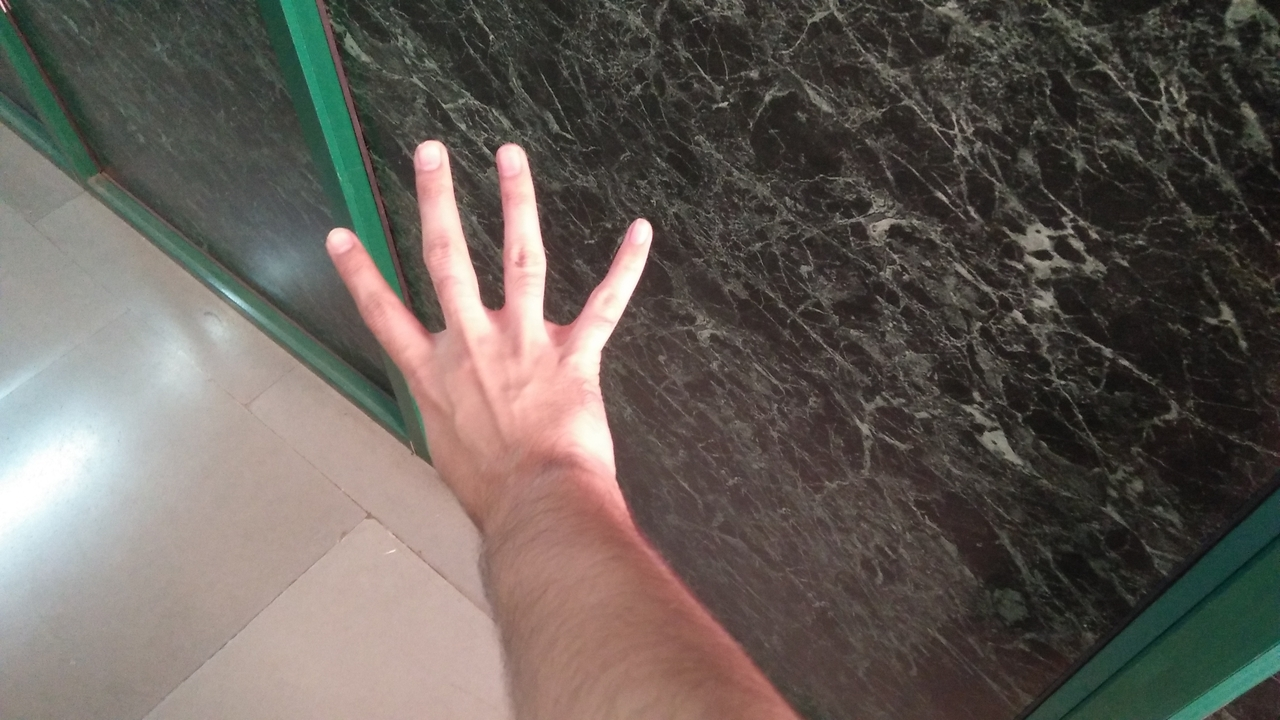fingertip: (308, 216, 366, 272), (606, 204, 664, 258), (482, 134, 536, 184), (402, 132, 456, 180)
